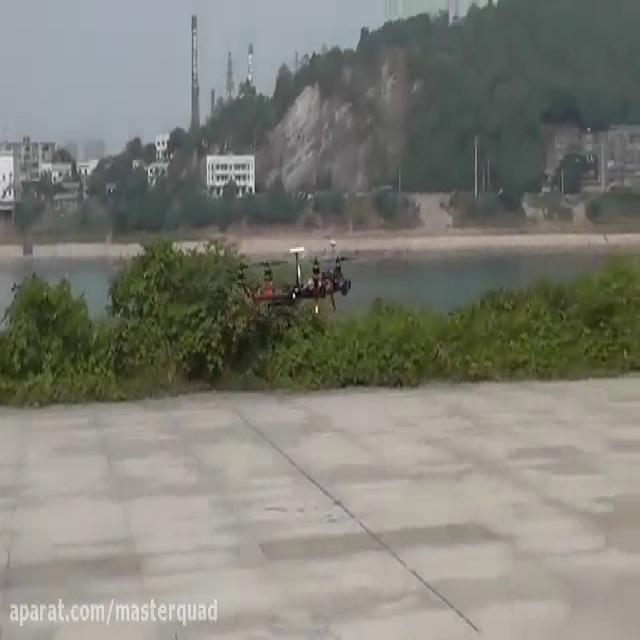drone: (230, 233, 360, 318)
